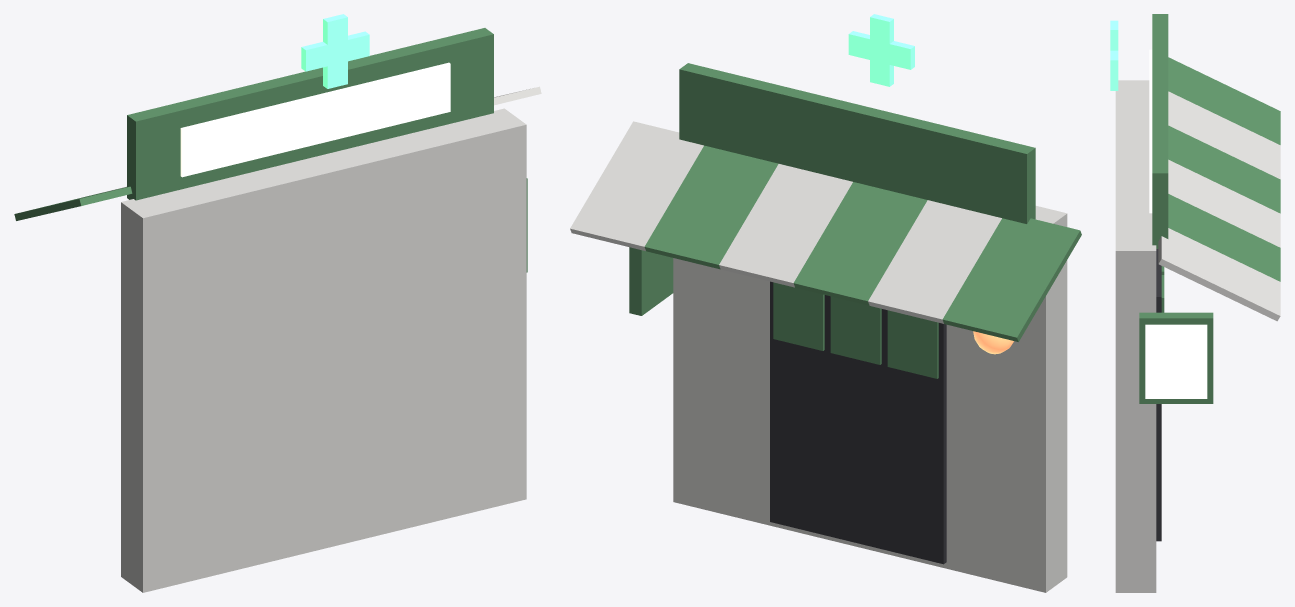
Rendered from prop_mise_kusuri.glb.
3 views of the same model, side by side, from view 1: azimuth 30°, elevation 25°; view 2: azimuth 150°, elevation 25°; view 3: azimuth 270°, elevation 25° (orthographic). The views are drawn at different scales.
Parts seen in each view (by area): view 1: mise_kusuri; view 2: mise_kusuri; view 3: mise_kusuri.
Part boxes in pixels (bbox=[...]): mise_kusuri: bbox=[14, 14, 541, 592]; mise_kusuri: bbox=[570, 14, 1081, 592]; mise_kusuri: bbox=[1110, 14, 1280, 592].
Bounding box in the file's own units: 3.6 × 3.95 × 1.26.
